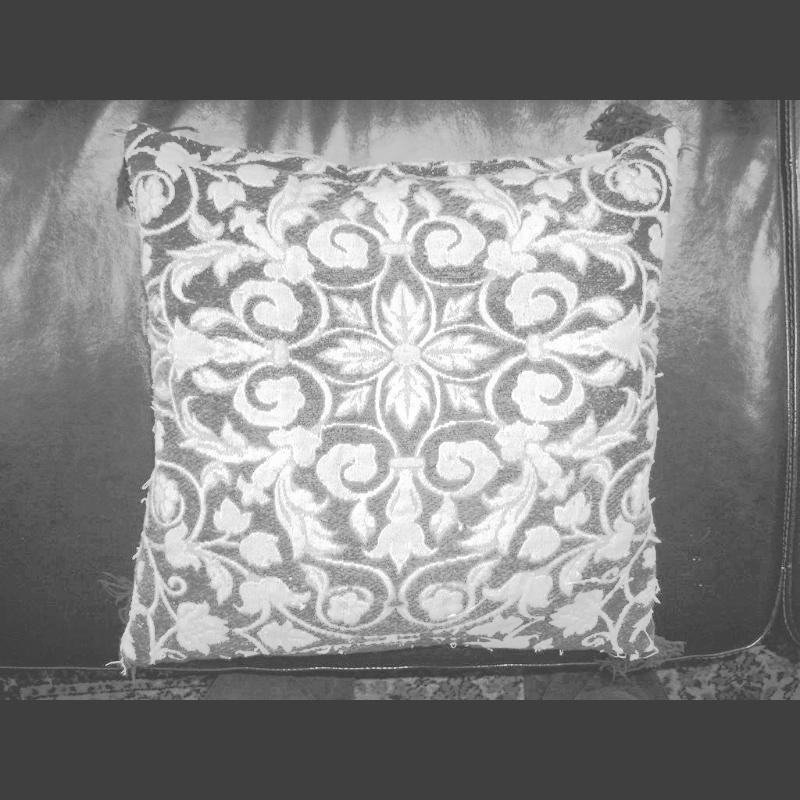pillow: (117, 125, 675, 684)
